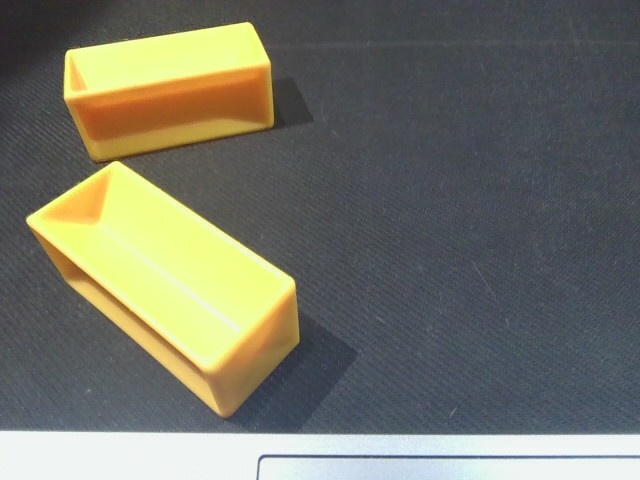YellowSample: (16, 159, 316, 423), (54, 22, 279, 163)
